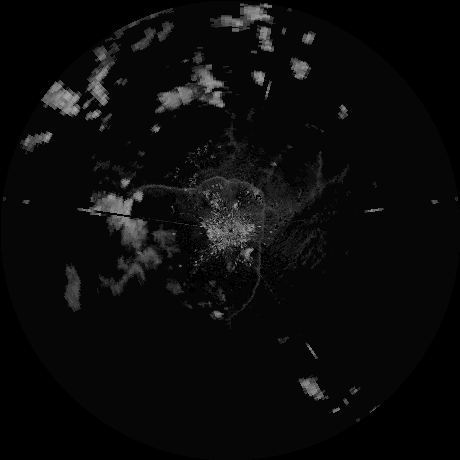frontgust: (252, 188, 271, 293), (230, 297, 252, 319)
